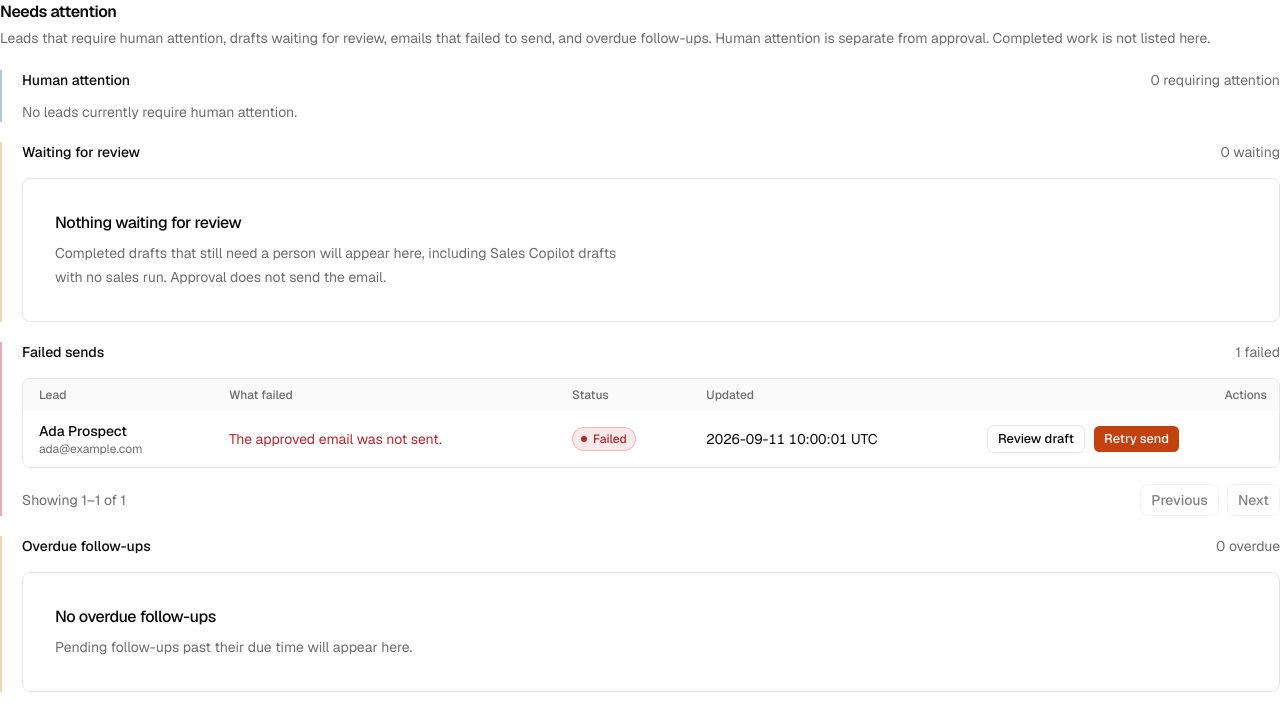
NeedsAttention › retries a failed send after confirmation and refetches
The image size is (1280, 720).
Click the button "Retry send" at (1137, 439), box [1093,425,1180,453]
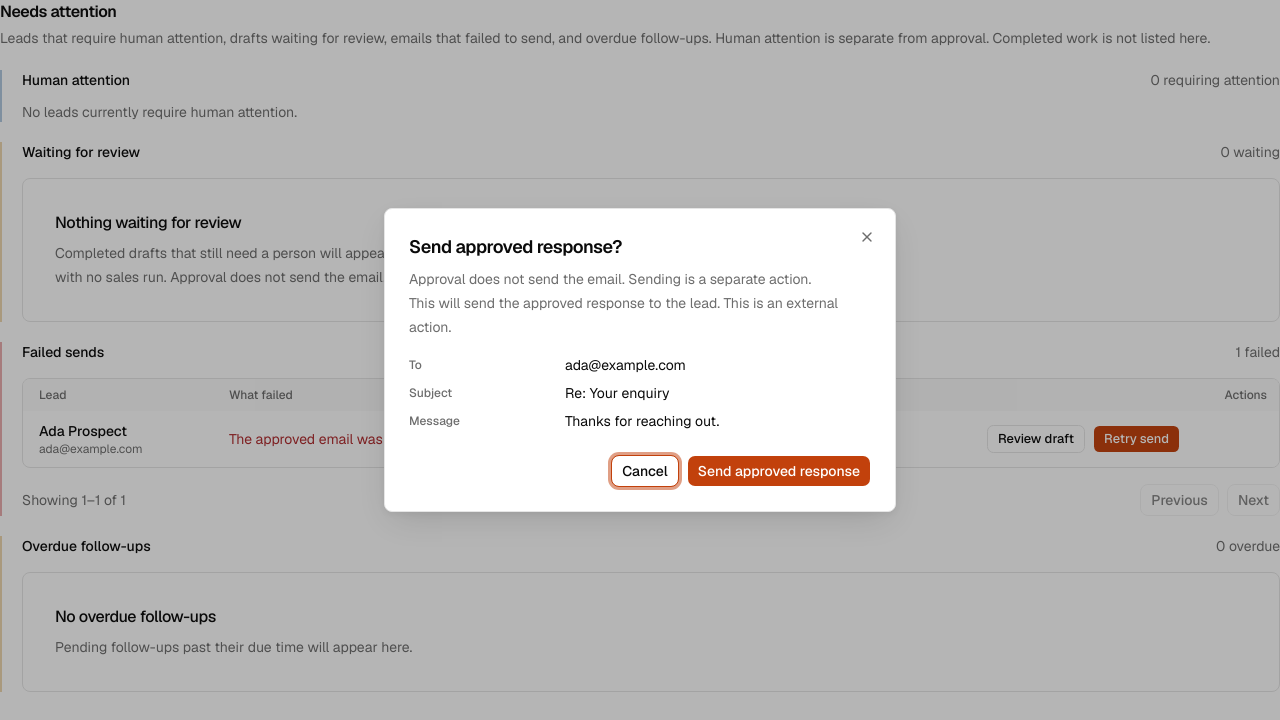
Expected: the heading "Send approved response?" is shown, [409,235,622,258]
Expected: the text "Thanks for reaching out." is shown, [565,412,719,430]
Click the button "Send approved response" at (779, 471), box [687,455,871,487]
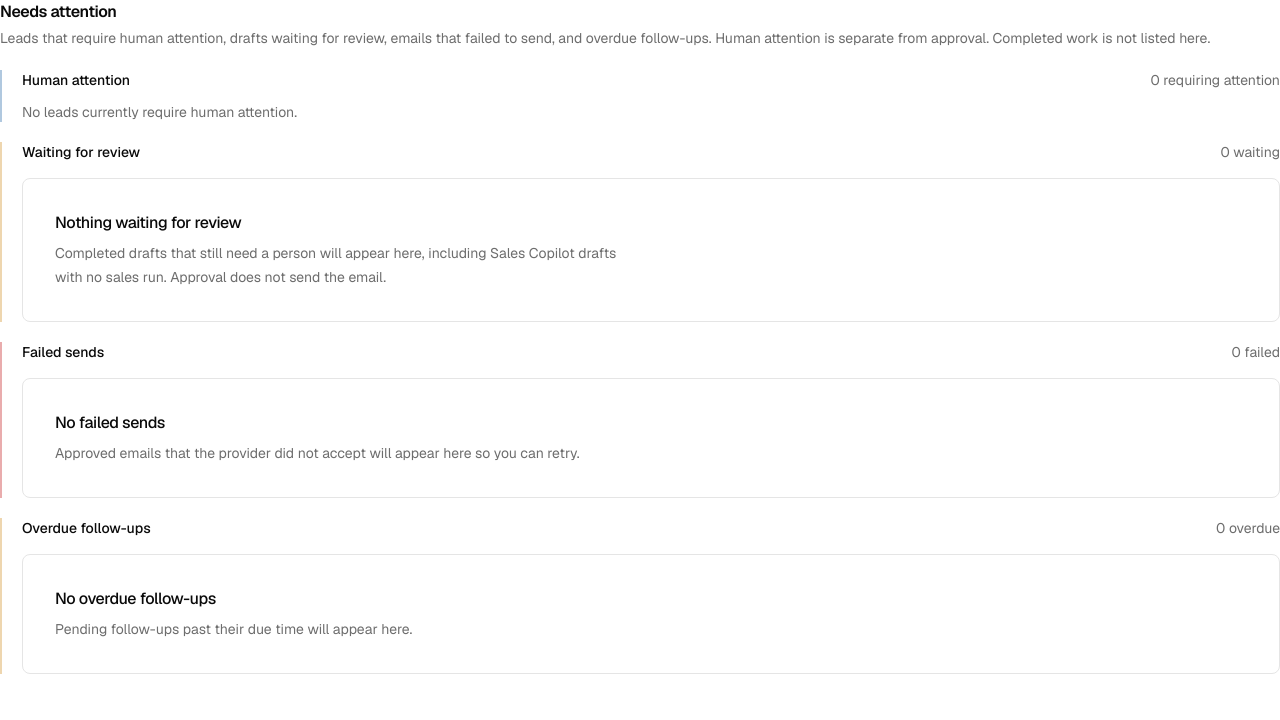
Expected: the heading "Nothing waiting for review" is shown, [55,211,241,235]
Expected: the heading "No failed sends" is shown, [55,411,165,435]
